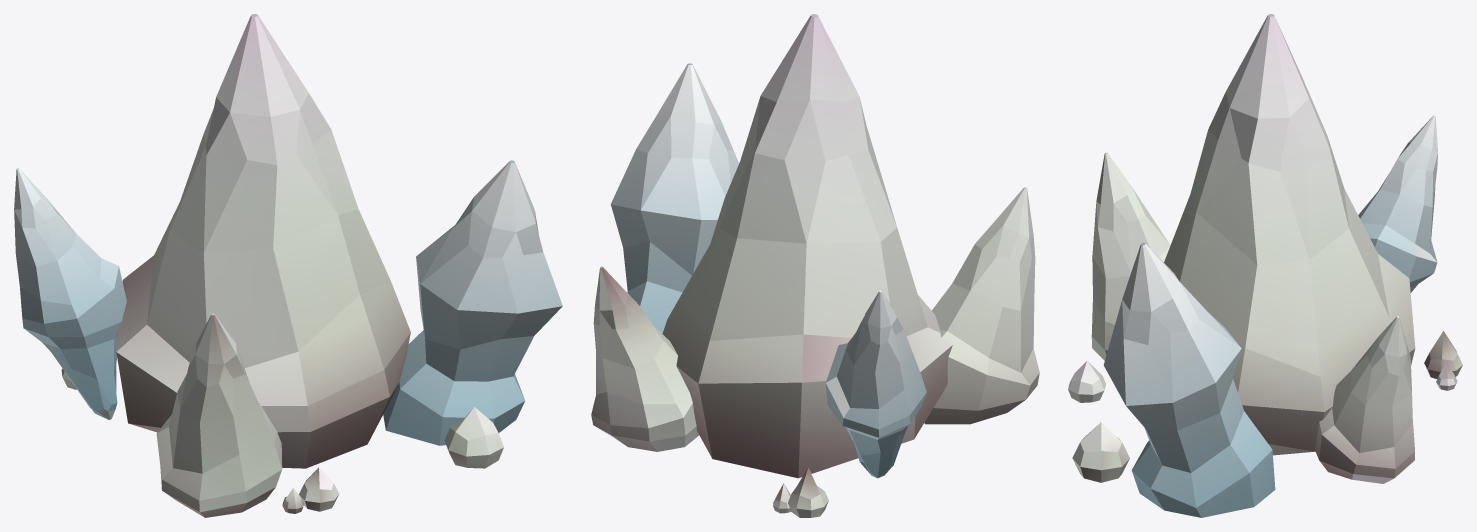
The model's file is mesh_titanium.fbx.
3 renders of one model, left to right at view 1: azimuth 30°, elevation 25°; view 2: azimuth 150°, elevation 25°; view 3: azimuth 270°, elevation 25°, orthographic. The views are drawn at different scales.
Visible parts, largest first — view 1: resource_titanium; view 2: resource_titanium; view 3: resource_titanium.
Part boxes in pixels (<box>): resource_titanium: <box>14,14,562,517</box>; resource_titanium: <box>591,14,1039,517</box>; resource_titanium: <box>1068,14,1462,517</box>.
Size of the model in its own units: 3.11 by 3.06 by 2.73.
